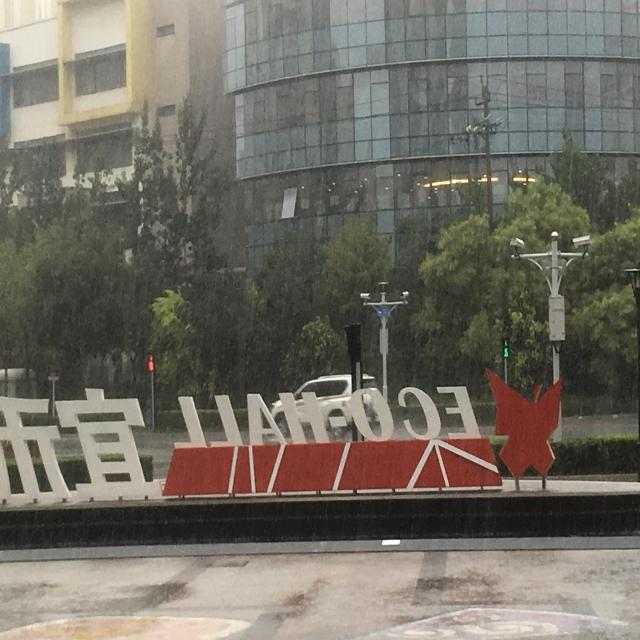car: (264, 370, 391, 436)
